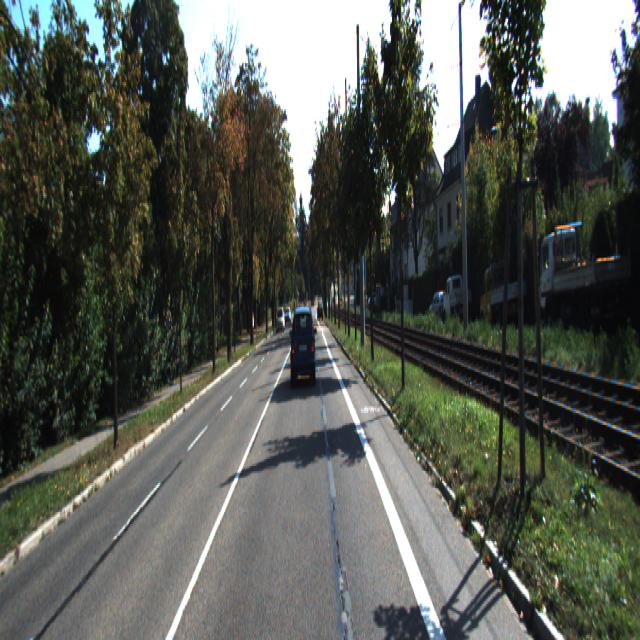Car: (539, 209, 633, 334), (480, 260, 528, 331), (290, 303, 316, 388), (442, 274, 472, 322), (430, 290, 451, 323), (276, 308, 286, 334)
